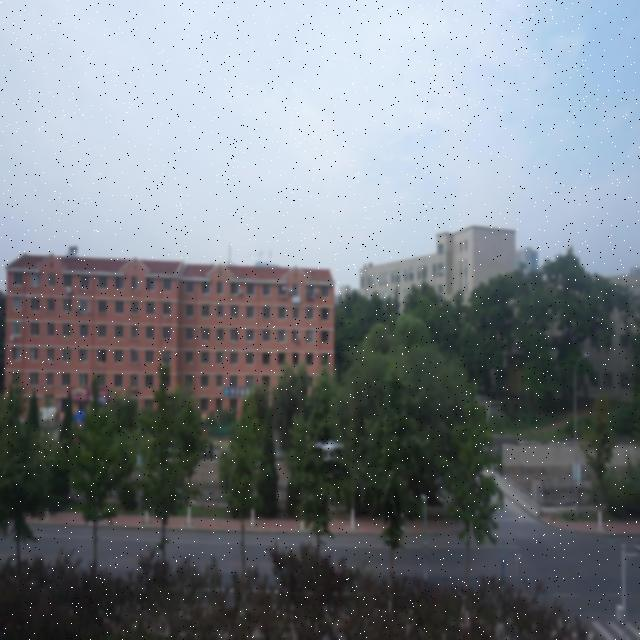UAV: (314, 440, 344, 460)
